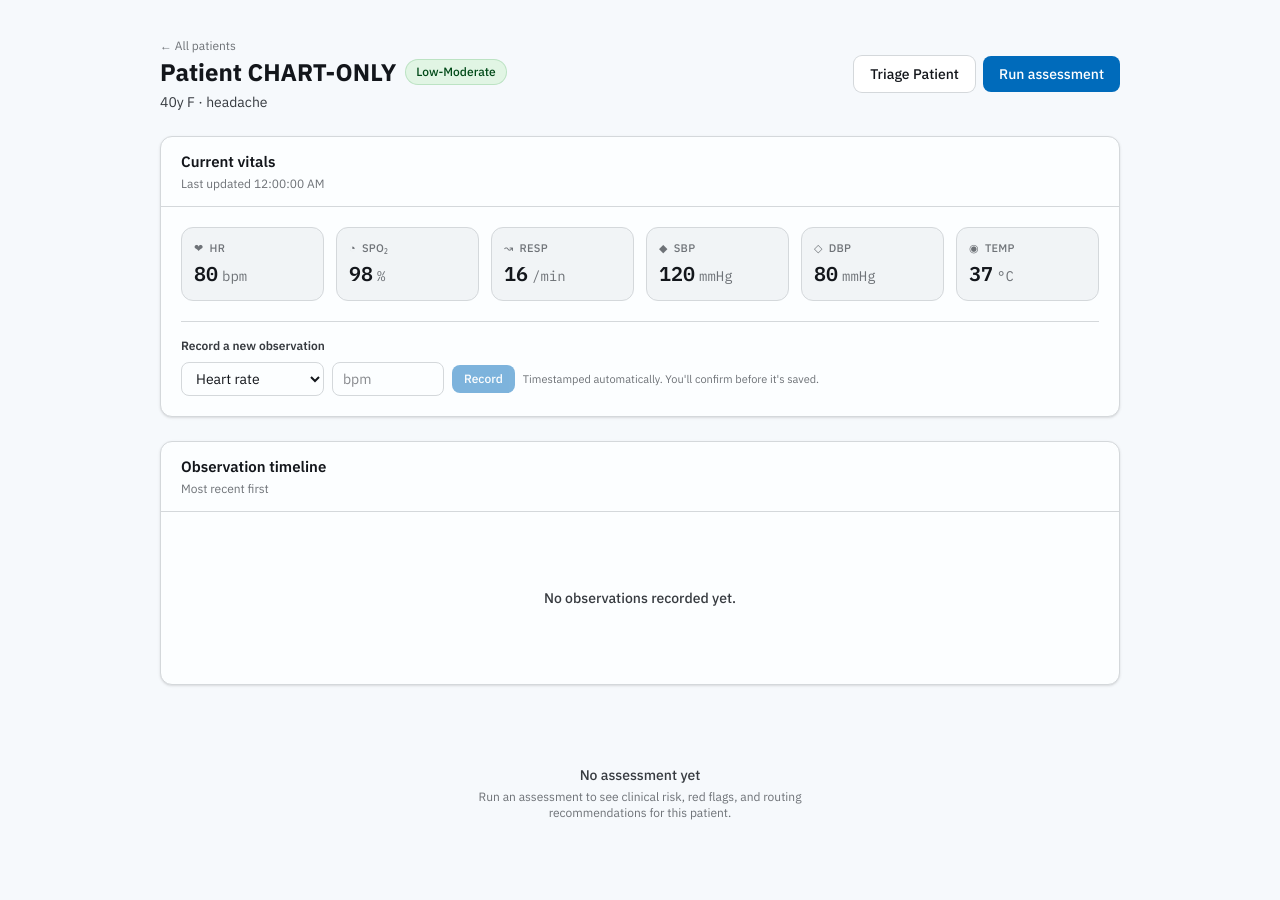
Test: PatientWorkspace › clicking Triage Patient activates (manualArrival) then triages the chart-only patient in one flow
The width and height of the screenshot is (1280, 900).
Click the button "Triage Patient" at (915, 74), box [854,56,975,92]
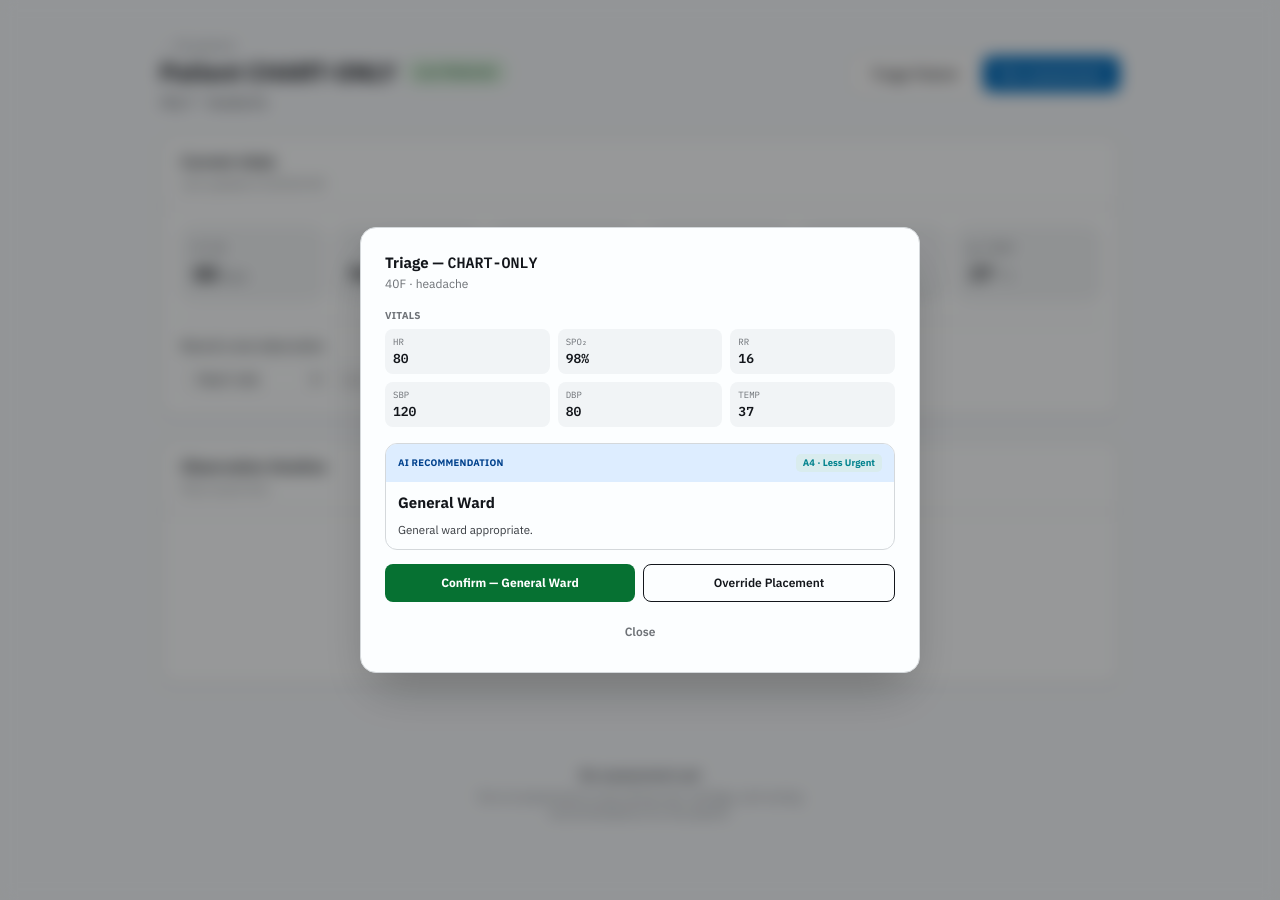
Now the text "General ward appropriate." is shown, box [398,522,533,537]
